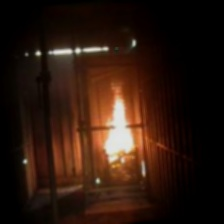fire: (97, 77, 140, 161)
